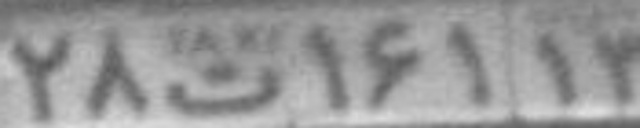1: (305, 25, 352, 110), (447, 25, 494, 108), (528, 32, 576, 102)
2: (10, 36, 67, 118)
3: (588, 31, 639, 103)
6: (358, 21, 427, 109)
8: (86, 29, 155, 113)
te: (166, 62, 282, 114)
